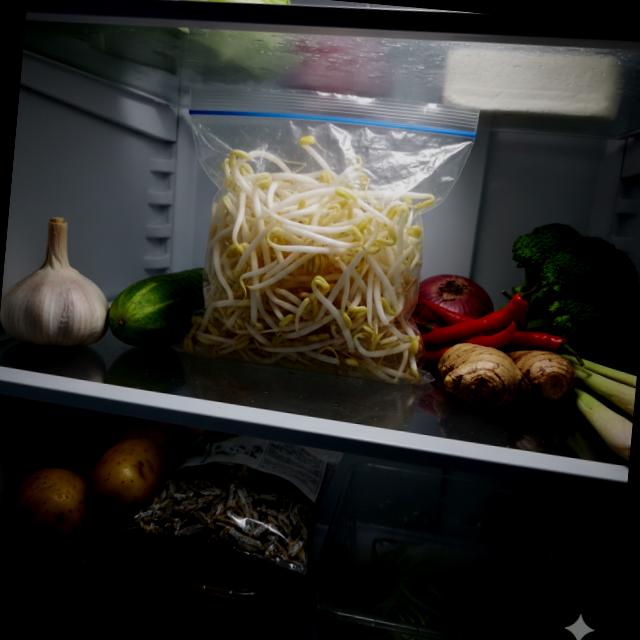anchovies: (128, 450, 322, 572)
bean_sprouts: (182, 126, 440, 387)
brocolli: (502, 219, 640, 368)
chili: (410, 272, 592, 376)
cucumber: (108, 258, 210, 350)
garlic: (0, 211, 117, 351)
ginger: (434, 340, 578, 414)
onion: (414, 272, 497, 322)
potato: (1, 404, 200, 564)
